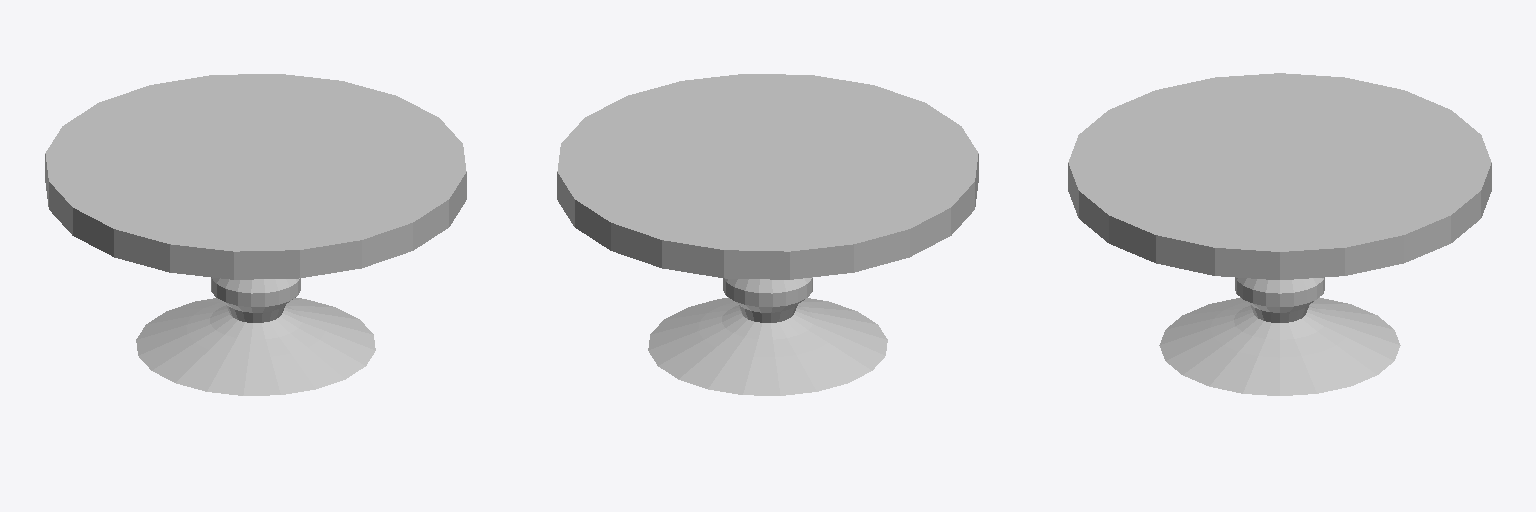
File: DiningTable.obj
The picture shows the model from 3 angles: view 1: azimuth 30°, elevation 25°; view 2: azimuth 150°, elevation 25°; view 3: azimuth 270°, elevation 25°; orthographic projection.
Parts seen in each view (by area): view 1: DiningTable:pCylinder1; view 2: DiningTable:pCylinder1; view 3: DiningTable:pCylinder1.
Part boxes in pixels (bbox=[...]): DiningTable:pCylinder1: bbox=[45, 74, 466, 395]; DiningTable:pCylinder1: bbox=[557, 74, 978, 395]; DiningTable:pCylinder1: bbox=[1068, 73, 1491, 395].
Bounding box in the file's own units: 59.62 × 29.01 × 59.62.